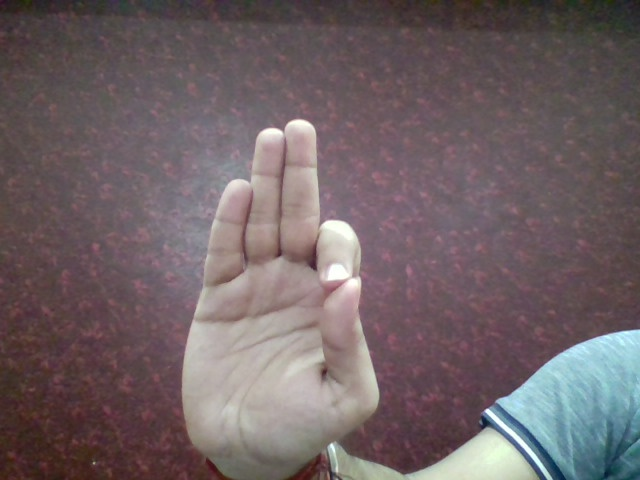f: (171, 111, 384, 448)
